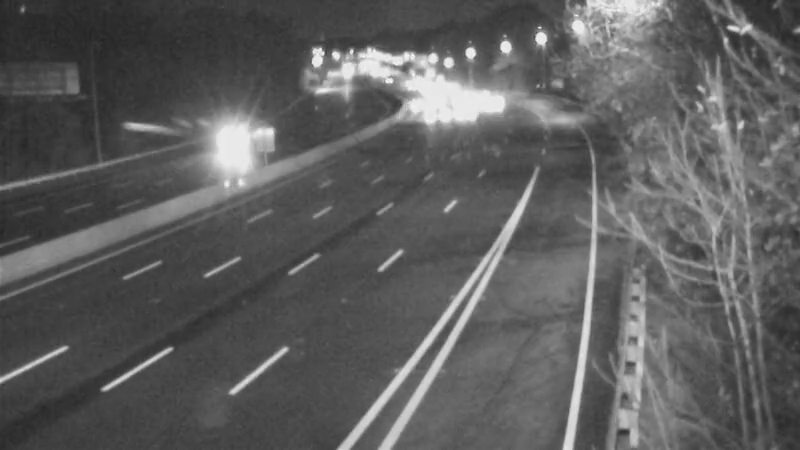vehicle: (391, 78, 441, 128), (466, 78, 516, 128), (436, 89, 486, 139), (403, 89, 453, 139), (202, 119, 252, 169)
